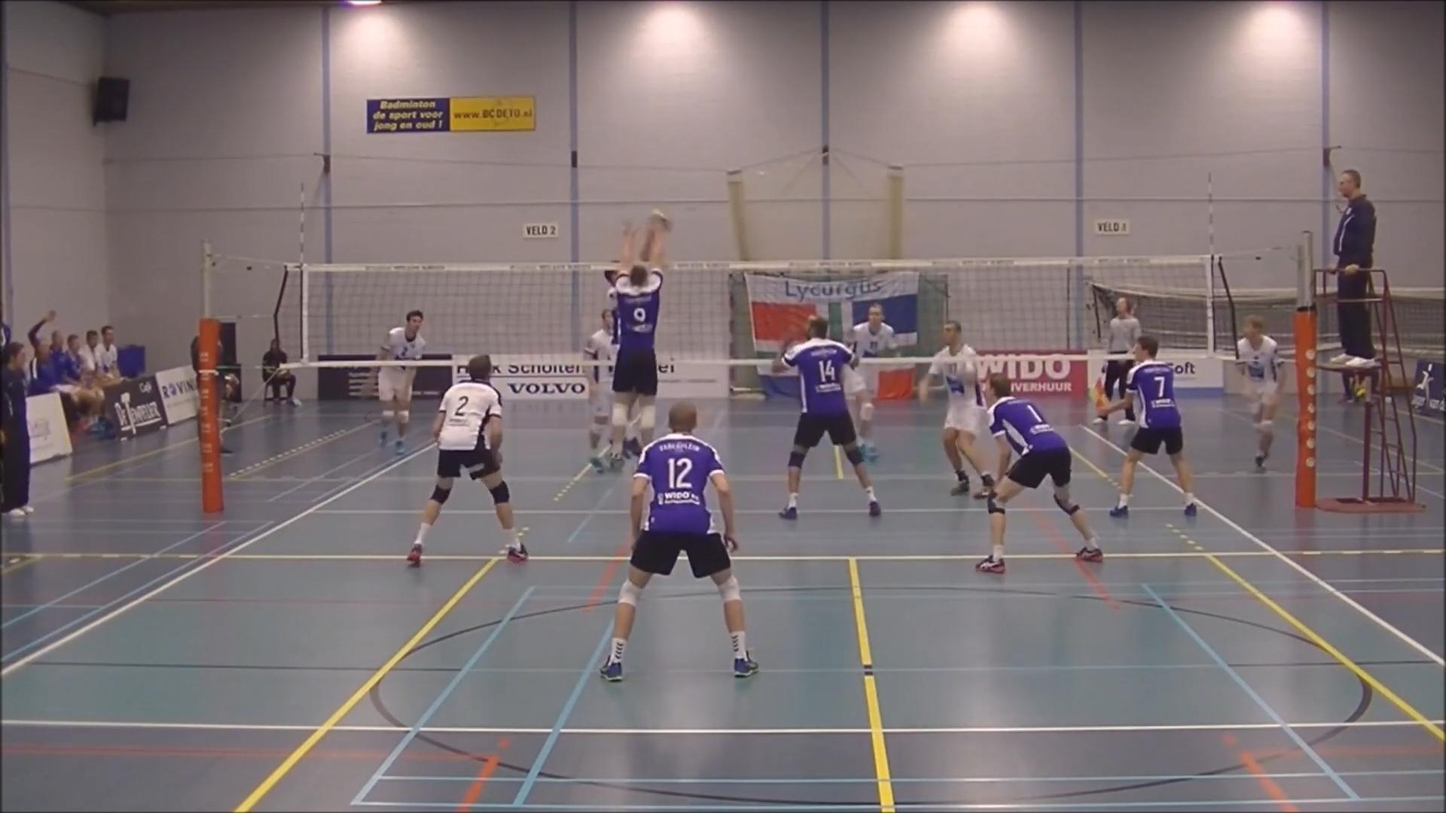Attack: (596, 199, 673, 346)
Block: (588, 210, 678, 478)
Player: (599, 403, 758, 681), (976, 373, 1103, 573), (407, 355, 527, 565), (772, 317, 880, 519), (1099, 336, 1197, 517), (918, 321, 993, 498), (1237, 315, 1281, 470), (583, 309, 616, 472), (376, 365, 416, 454), (850, 364, 879, 461)
ball: (640, 201, 673, 235)
